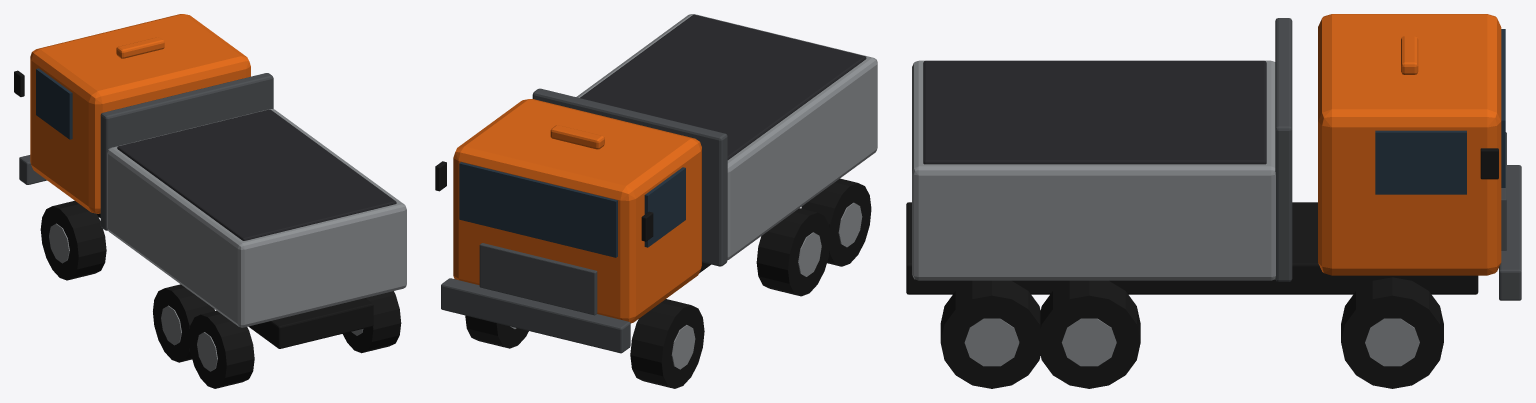
Rendered from asfaltkamyon.glb.
3 renders of one model, left to right at view 1: azimuth 30°, elevation 25°; view 2: azimuth 150°, elevation 25°; view 3: azimuth 270°, elevation 25°, orthographic. The views are drawn at different scales.
Visible parts, largest first — view 1: Ayna; view 2: Ayna; view 3: Ayna.
Boxes of the visible parts, x1=… form: Ayna: x1=14, y1=14, x2=406, y2=388; Ayna: x1=435, y1=14, x2=877, y2=388; Ayna: x1=906, y1=14, x2=1521, y2=388.
Size of the model in its own units: 0.4758 by 0.5056 by 1.
